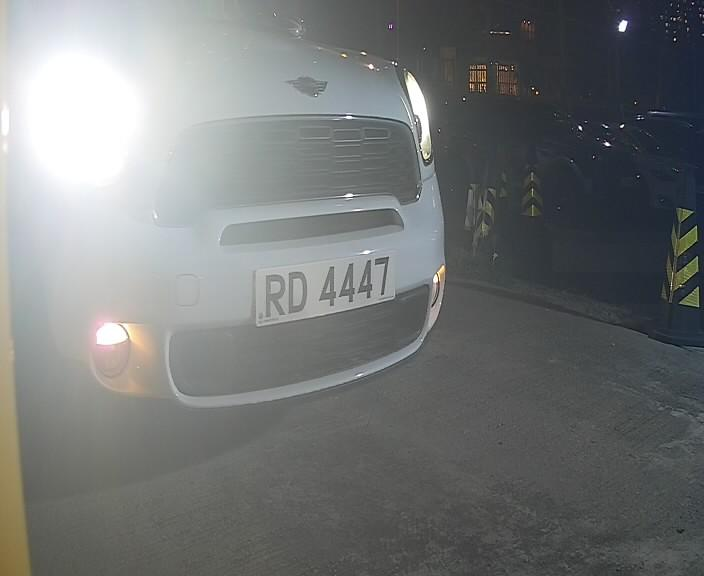License Plate: (245, 235, 403, 340)
